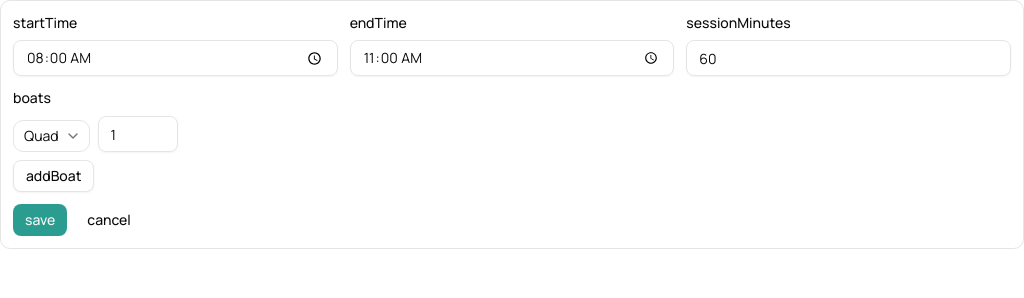
it: WindowForm › keeps all three typed fields after a refusal, next to the error that explains it
Replace the text in the time field labelled "startTime" with "07:30". click: (175, 58)
box: [13,40,338,76]
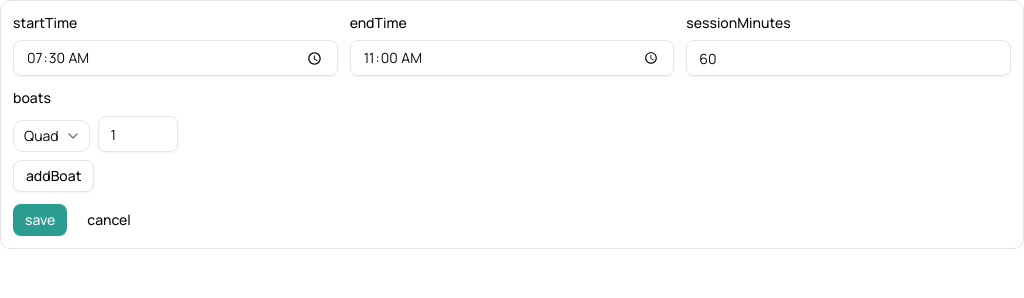
Replace the text in the time field labelled "endTime" with "10:15". click: (512, 58)
box: [350,40,674,76]
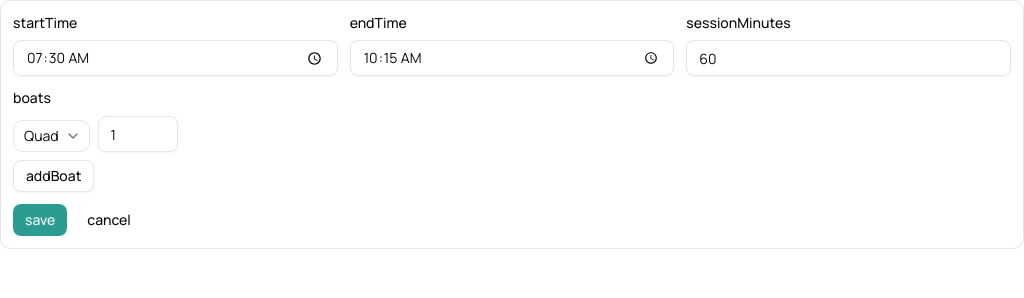
Replace the text in the number field labelled "sessionMinutes" with "45". click: (849, 58)
box: [686,40,1011,76]
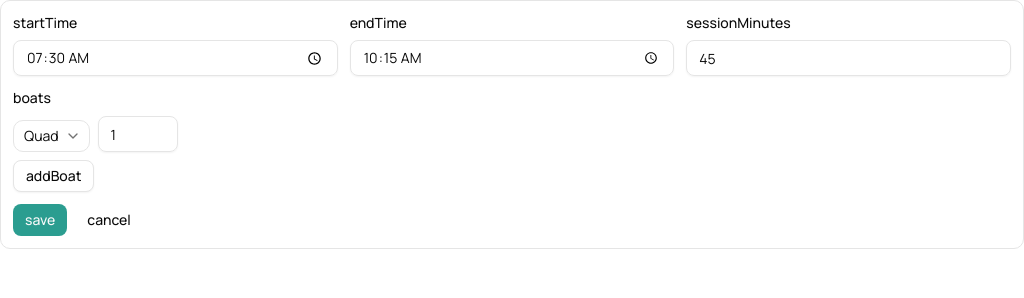
Submit the form
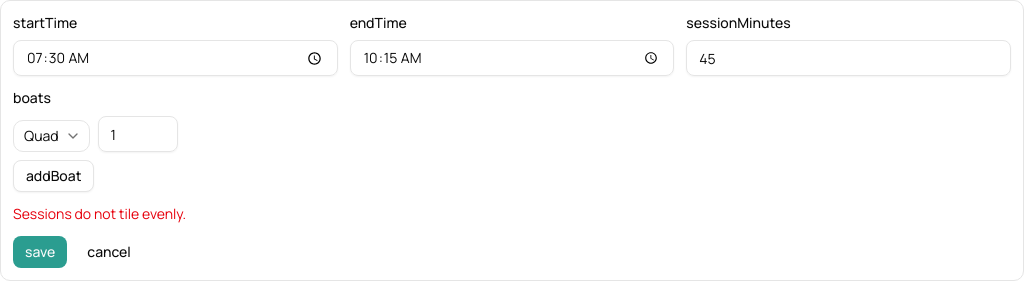
Expected: the text "Sessions do not tile evenly." is shown, [13,204,186,223]
